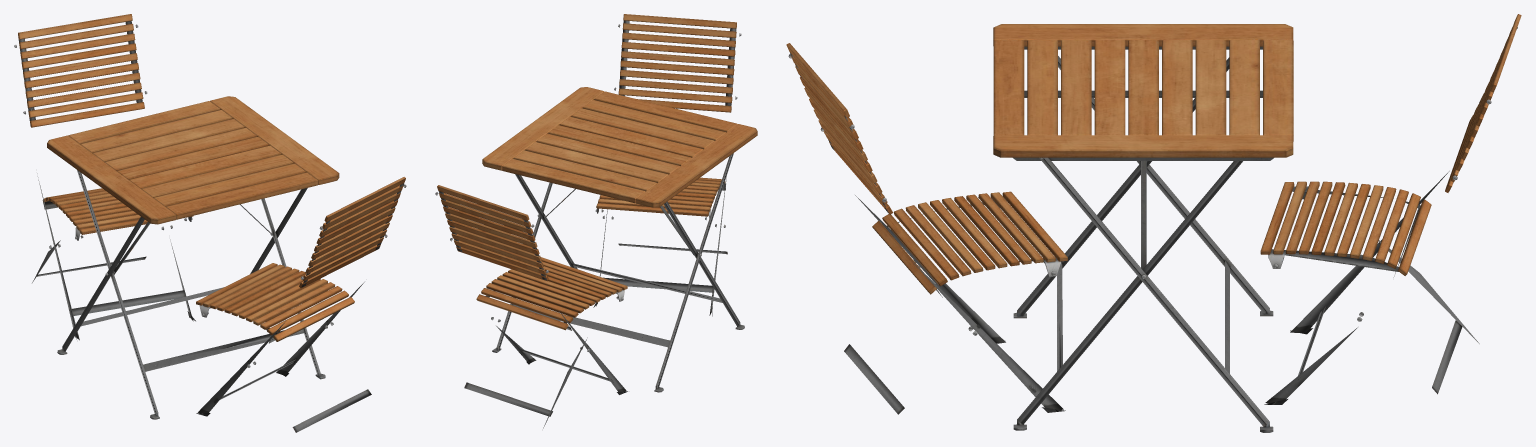
Rendered from outdoor_table_chair_set_01.glb.
3 views of the same model, side by side, from view 1: azimuth 30°, elevation 25°; view 2: azimuth 150°, elevation 25°; view 3: azimuth 270°, elevation 25° (orthographic). The views are drawn at different scales.
Visible parts, largest first — view 1: outdoor_table_chair_set_01_table, outdoor_table_chair_set_01_chair_02, outdoor_table_chair_set_01_chair_01; view 2: outdoor_table_chair_set_01_table, outdoor_table_chair_set_01_chair_02, outdoor_table_chair_set_01_chair_01; view 3: outdoor_table_chair_set_01_table, outdoor_table_chair_set_01_chair_01, outdoor_table_chair_set_01_chair_02.
Part boxes in pixels (box(x1,y1,x2,y2)): outdoor_table_chair_set_01_table: box(47, 96, 339, 419); outdoor_table_chair_set_01_chair_02: box(14, 14, 195, 340); outdoor_table_chair_set_01_chair_01: box(196, 177, 406, 432); outdoor_table_chair_set_01_table: box(482, 87, 757, 392); outdoor_table_chair_set_01_chair_02: box(435, 185, 627, 428); outdoor_table_chair_set_01_chair_01: box(593, 14, 741, 316); outdoor_table_chair_set_01_table: box(993, 24, 1293, 432); outdoor_table_chair_set_01_chair_01: box(786, 43, 1067, 414); outdoor_table_chair_set_01_chair_02: box(1260, 14, 1521, 404).
Size of the model in its own units: 0.7404 by 0.8505 by 1.7.
2 materials, 2 textured.
